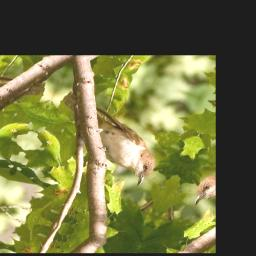Cuckoo: (33, 89, 179, 189)
